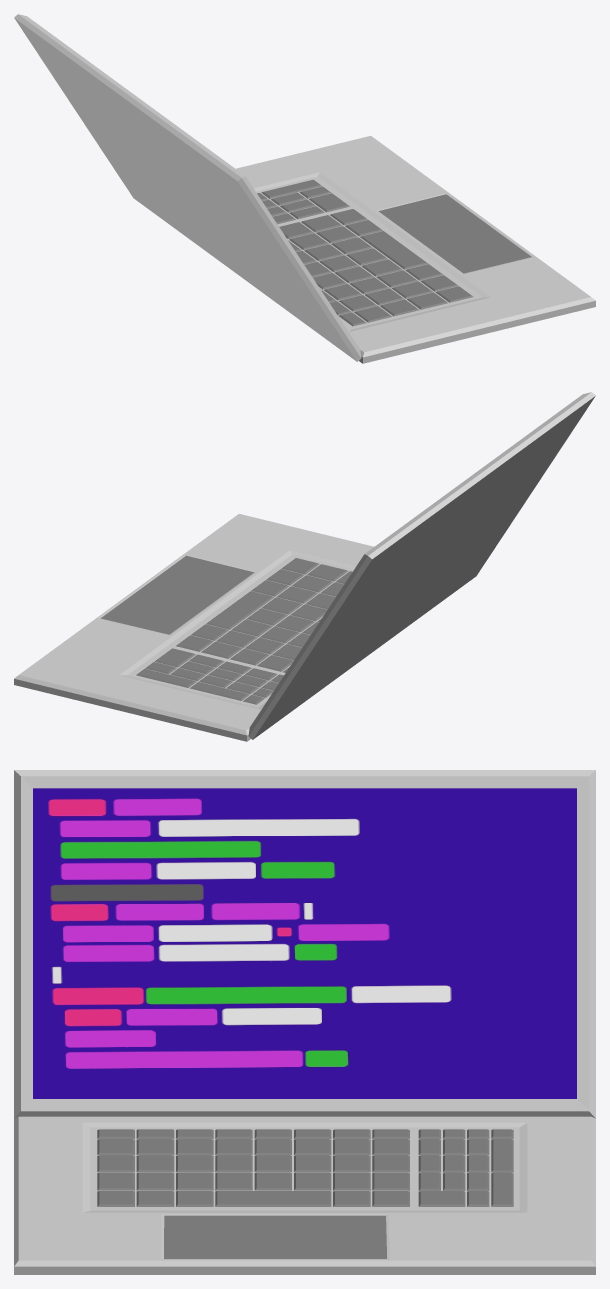
The model's file is notebook.glb.
The picture shows the model from 3 angles, top to bottom: view 1: azimuth 30°, elevation 25°; view 2: azimuth 150°, elevation 25°; view 3: azimuth 270°, elevation 25°; orthographic projection. The views are drawn at different scales.
Parts seen in each view (by area): view 1: Cube.001, Cube, Cube.002, Plane.001; view 2: Cube.001, Cube, Cube.002, Plane.001; view 3: Plane, Cube, Cube.001, Cube.002, Plane.001.
Boxes of the visible parts, <box> form: Cube.001: <box>14,14,361,361</box>; Cube: <box>236,136,595,363</box>; Cube.002: <box>257,179,473,326</box>; Plane.001: <box>378,194,531,273</box>; Cube.001: <box>248,392,595,739</box>; Cube: <box>14,514,373,741</box>; Cube.002: <box>136,558,352,704</box>; Plane.001: <box>101,555,254,634</box>; Plane: <box>33,788,576,1098</box>; Cube: <box>14,1116,595,1274</box>; Cube.001: <box>14,770,595,1118</box>; Cube.002: <box>97,1129,513,1206</box>; Plane.001: <box>164,1215,386,1258</box>.
Size of the model in its own units: 1.85 by 1.06 by 2.
3 materials, 1 textured.
